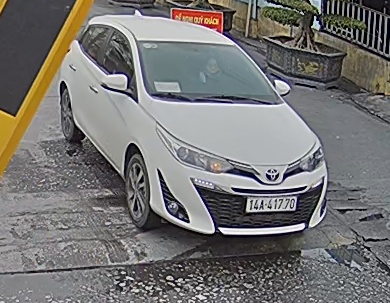vehicle plate: (242, 192, 301, 213)
